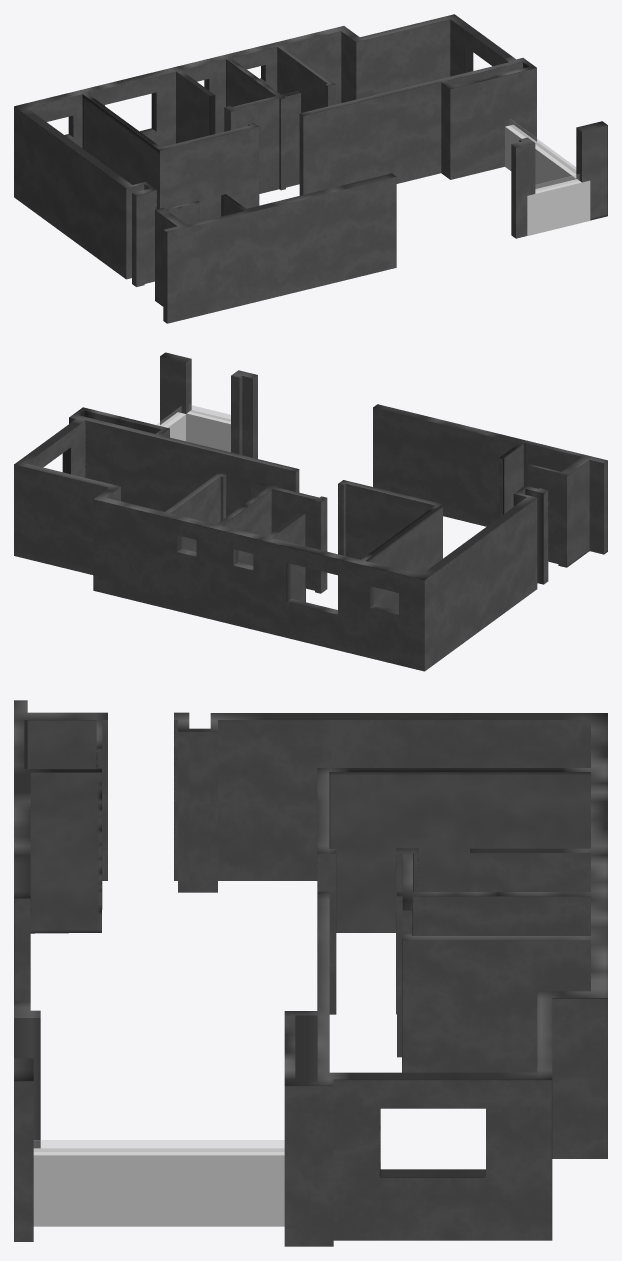
File: apartment_body.fbx
3 views of the same model, one above another, from view 1: azimuth 30°, elevation 25°; view 2: azimuth 150°, elevation 25°; view 3: azimuth 270°, elevation 25° (orthographic). The views are drawn at different scales.
Visible parts, largest first — view 1: polySurface139; view 2: polySurface139; view 3: polySurface139.
Part boxes in pixels (x1,y1,x2,y2): polySurface139: [14, 14, 607, 323]; polySurface139: [14, 352, 607, 671]; polySurface139: [14, 700, 607, 1246].
Size of the model in its own units: 11.47 by 2.24 by 7.47.
Materials: 4 (1 with a texture image).
